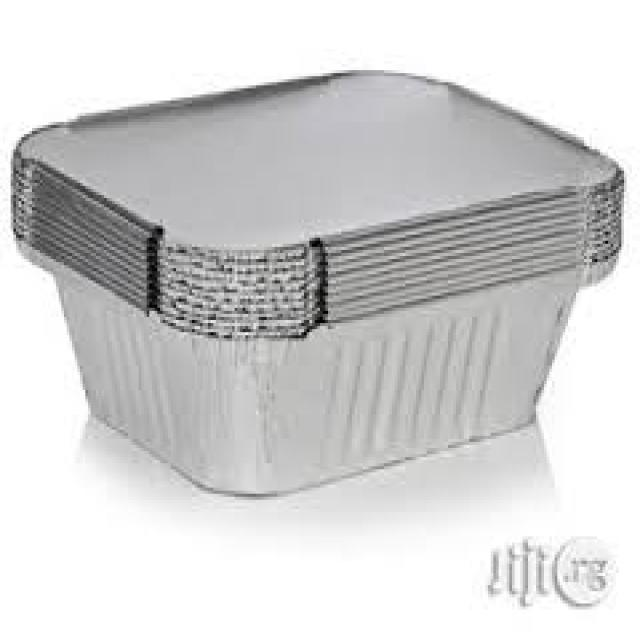metal: (8, 70, 621, 494)
